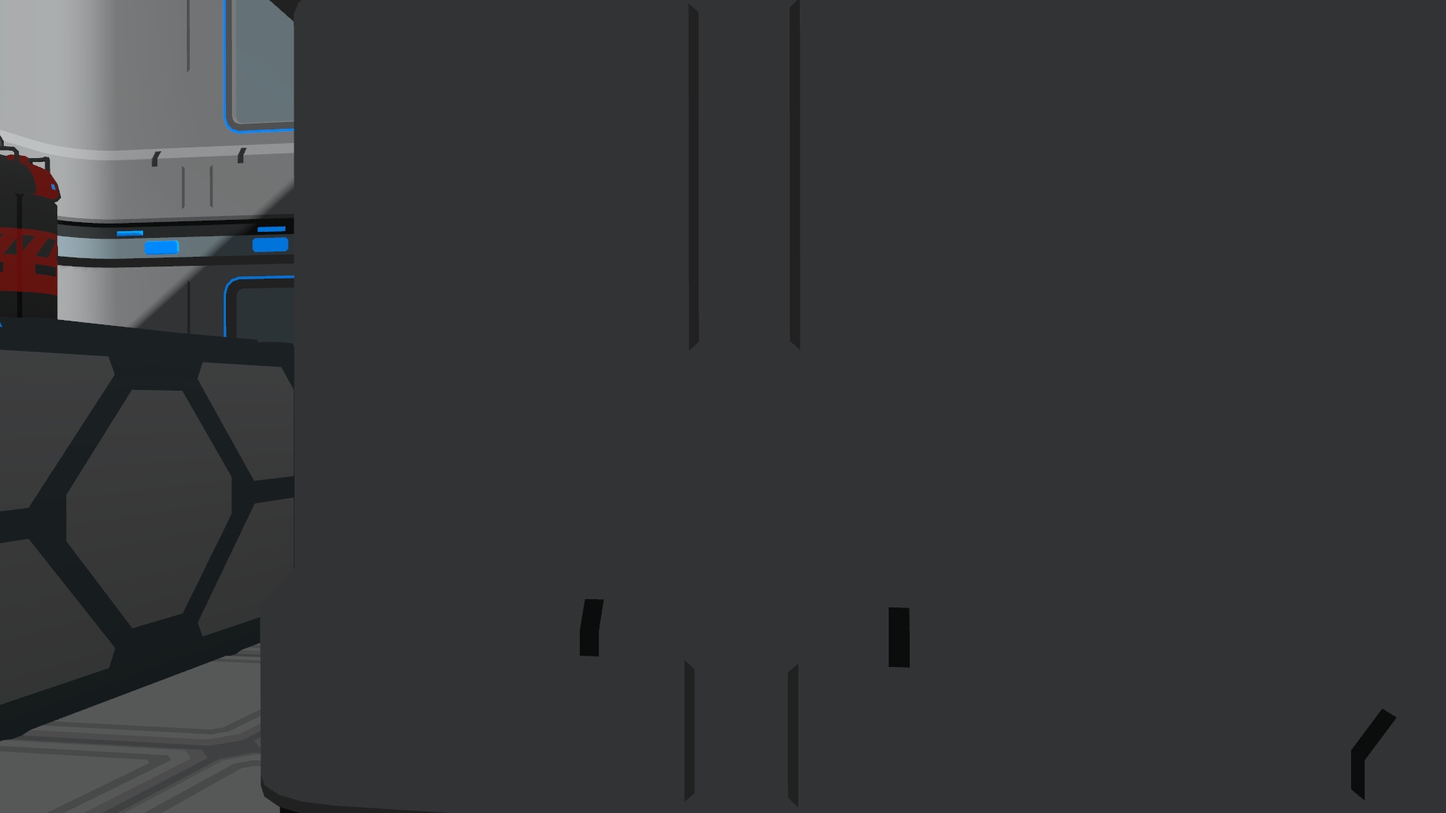red_barrel: (0, 148, 68, 325)
